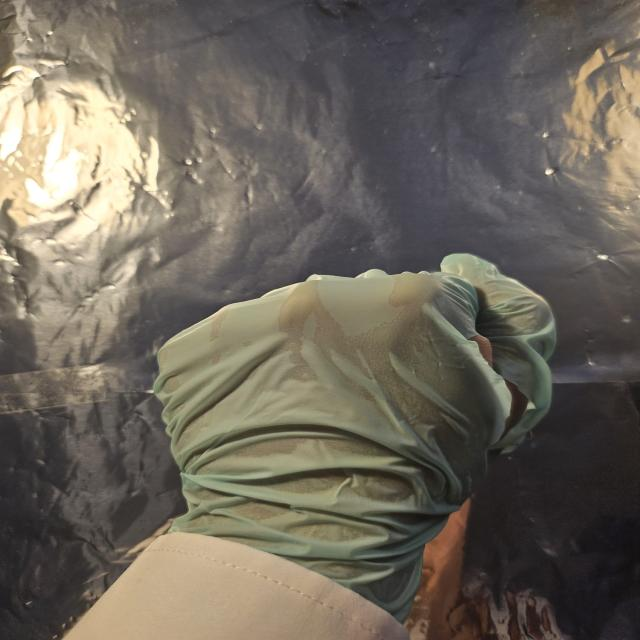gloves_damaged: (143, 248, 572, 581)
